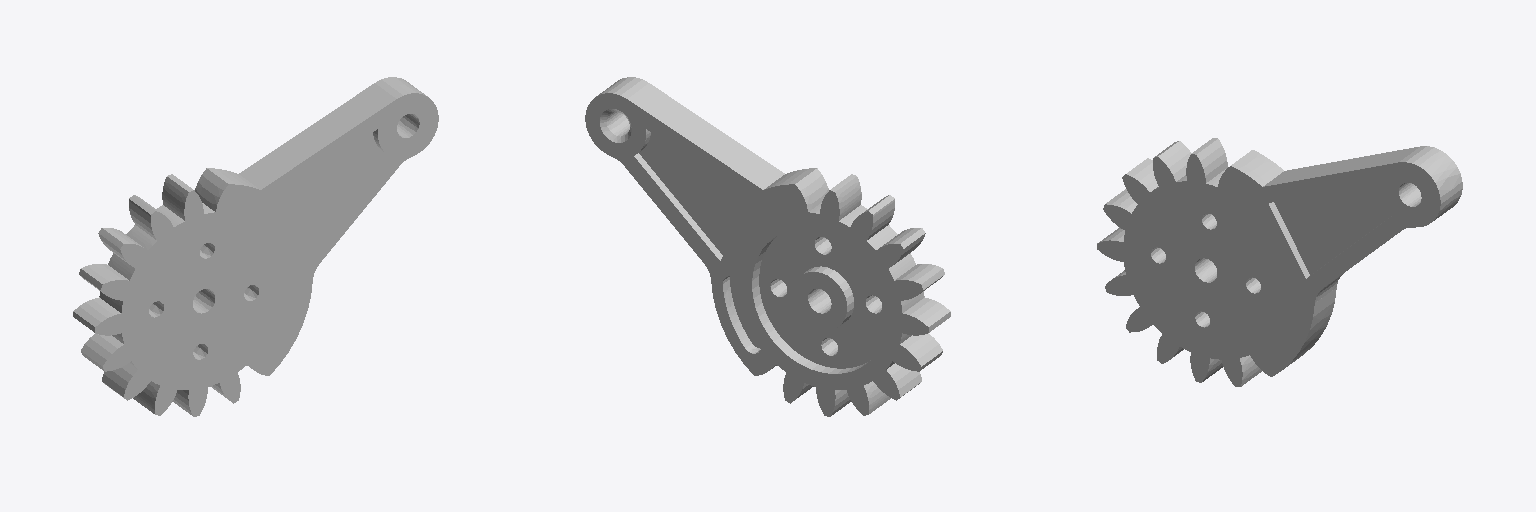
Rendered from gripper_right3.obj.
3 views of the same model, side by side, from view 1: azimuth 30°, elevation 25°; view 2: azimuth 150°, elevation 25°; view 3: azimuth 330°, elevation 25° (orthographic).
Visible parts, largest first — view 1: gripper_right3; view 2: gripper_right3; view 3: gripper_right3.
Boxes of the visible parts, box(x1,y1,x2,y2) form: gripper_right3: box(73, 77, 438, 416); gripper_right3: box(585, 77, 950, 416); gripper_right3: box(1097, 138, 1462, 386).
Size of the model in its own units: 0.045 by 0.0339 by 0.005.